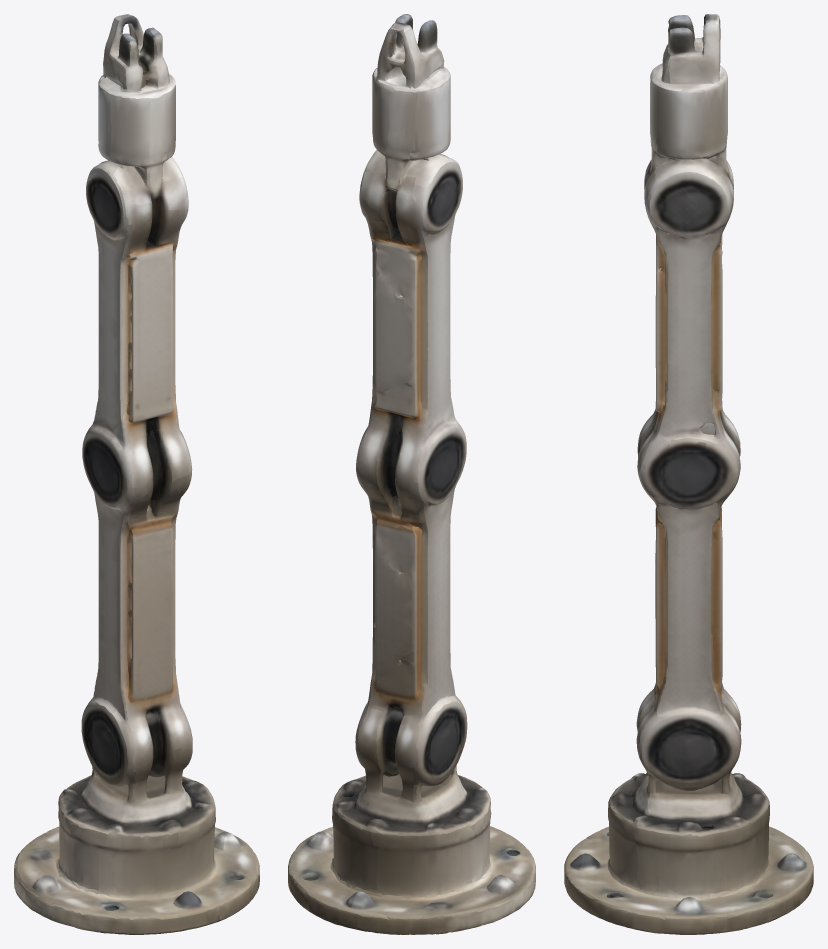
The model's file is original.glb.
3 views of the same model, side by side, from view 1: azimuth 30°, elevation 25°; view 2: azimuth 150°, elevation 25°; view 3: azimuth 270°, elevation 25° (orthographic).
Parts seen in each view (by area): view 1: world; view 2: world; view 3: world.
Boxes of the visible parts, box(x1,y1,x2,y2) form: world: box(14, 14, 259, 934); world: box(288, 14, 535, 934); world: box(564, 14, 813, 934).
Bounding box in the file's own units: 0.8002 × 3.07 × 0.8.
1 material, 1 textured.
